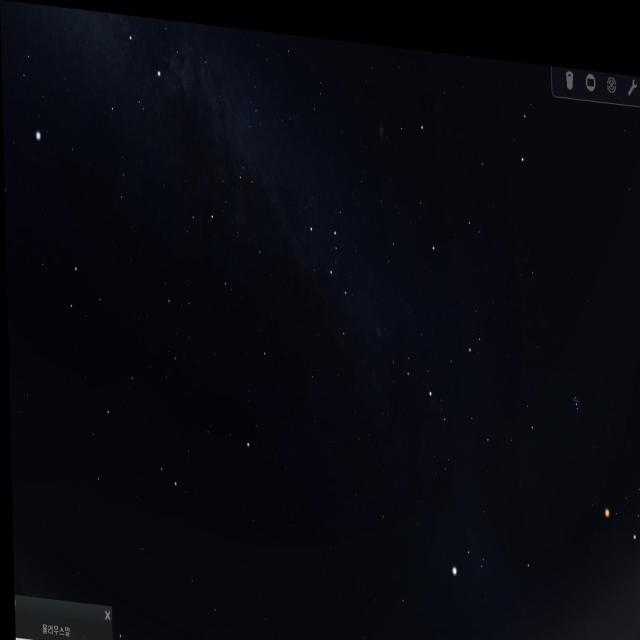cassiopeia: (301, 186, 362, 345)
pleiades: (563, 357, 585, 405)
